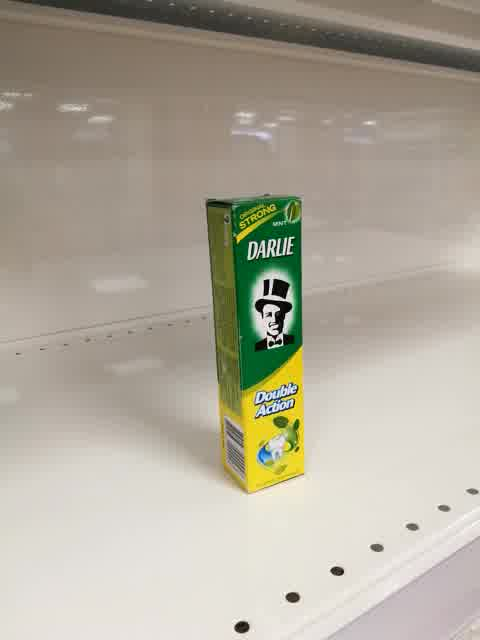toothpaste: (205, 193, 305, 495)
